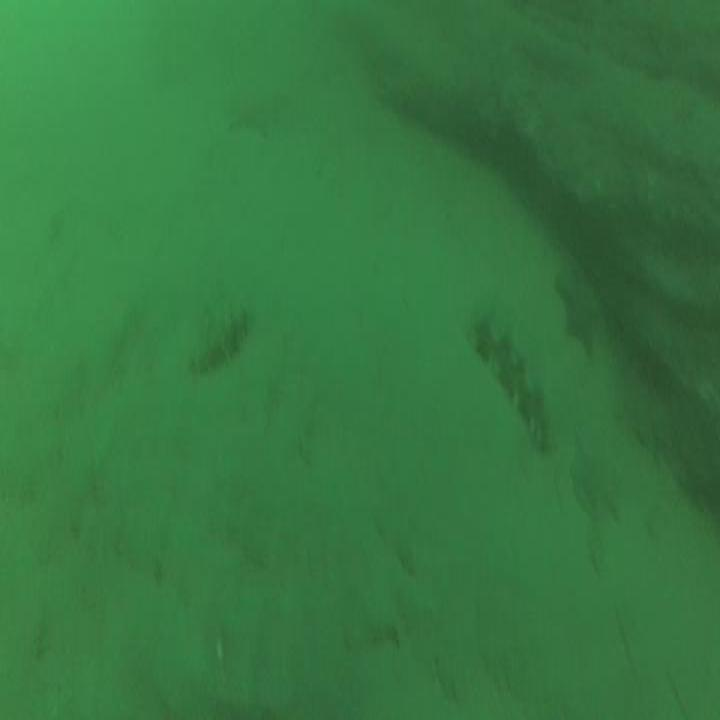holothurian: (472, 293, 557, 459), (186, 292, 256, 382)
starfish: (554, 261, 608, 354)
